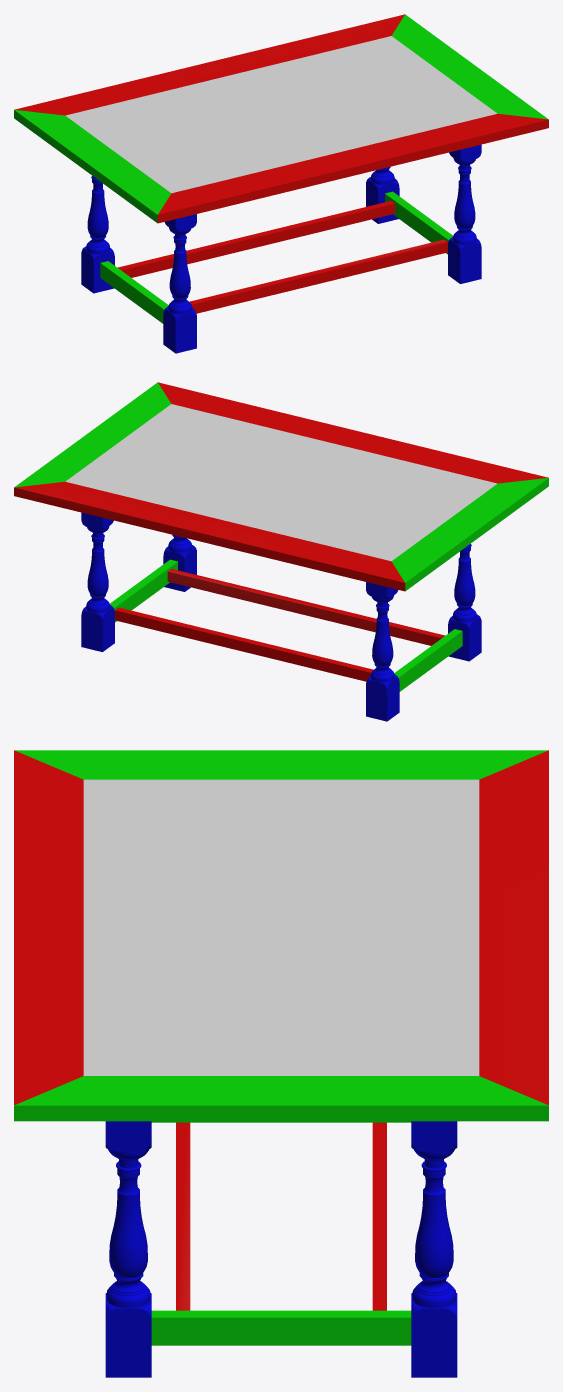
Rendered from AntiqueTable.fbx.
3 renders of one model, top to bottom at view 1: azimuth 30°, elevation 25°; view 2: azimuth 150°, elevation 25°; view 3: azimuth 270°, elevation 25°, orthographic. The views are drawn at different scales.
Visible parts, largest first — view 1: Cube.001; view 2: Cube.001; view 3: Cube.001.
Part boxes in pixels (x1=…): Cube.001: x1=14, y1=14, x2=548, y2=353; Cube.001: x1=14, y1=382, x2=548, y2=721; Cube.001: x1=14, y1=750, x2=548, y2=1377.
Size of the model in its own units: 186 by 75.8 by 118.
